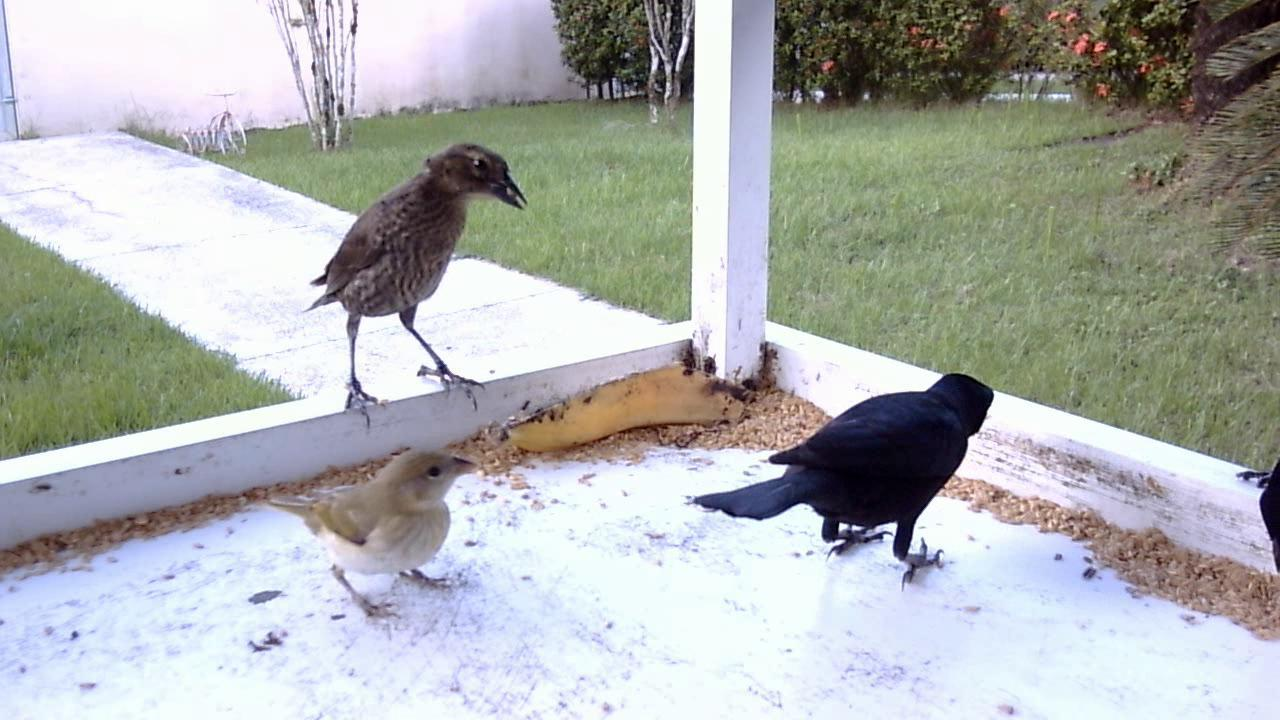canario_do_amazonas: (250, 444, 488, 631)
chupim: (685, 351, 1004, 590), (299, 138, 531, 431), (1226, 450, 1280, 577)
